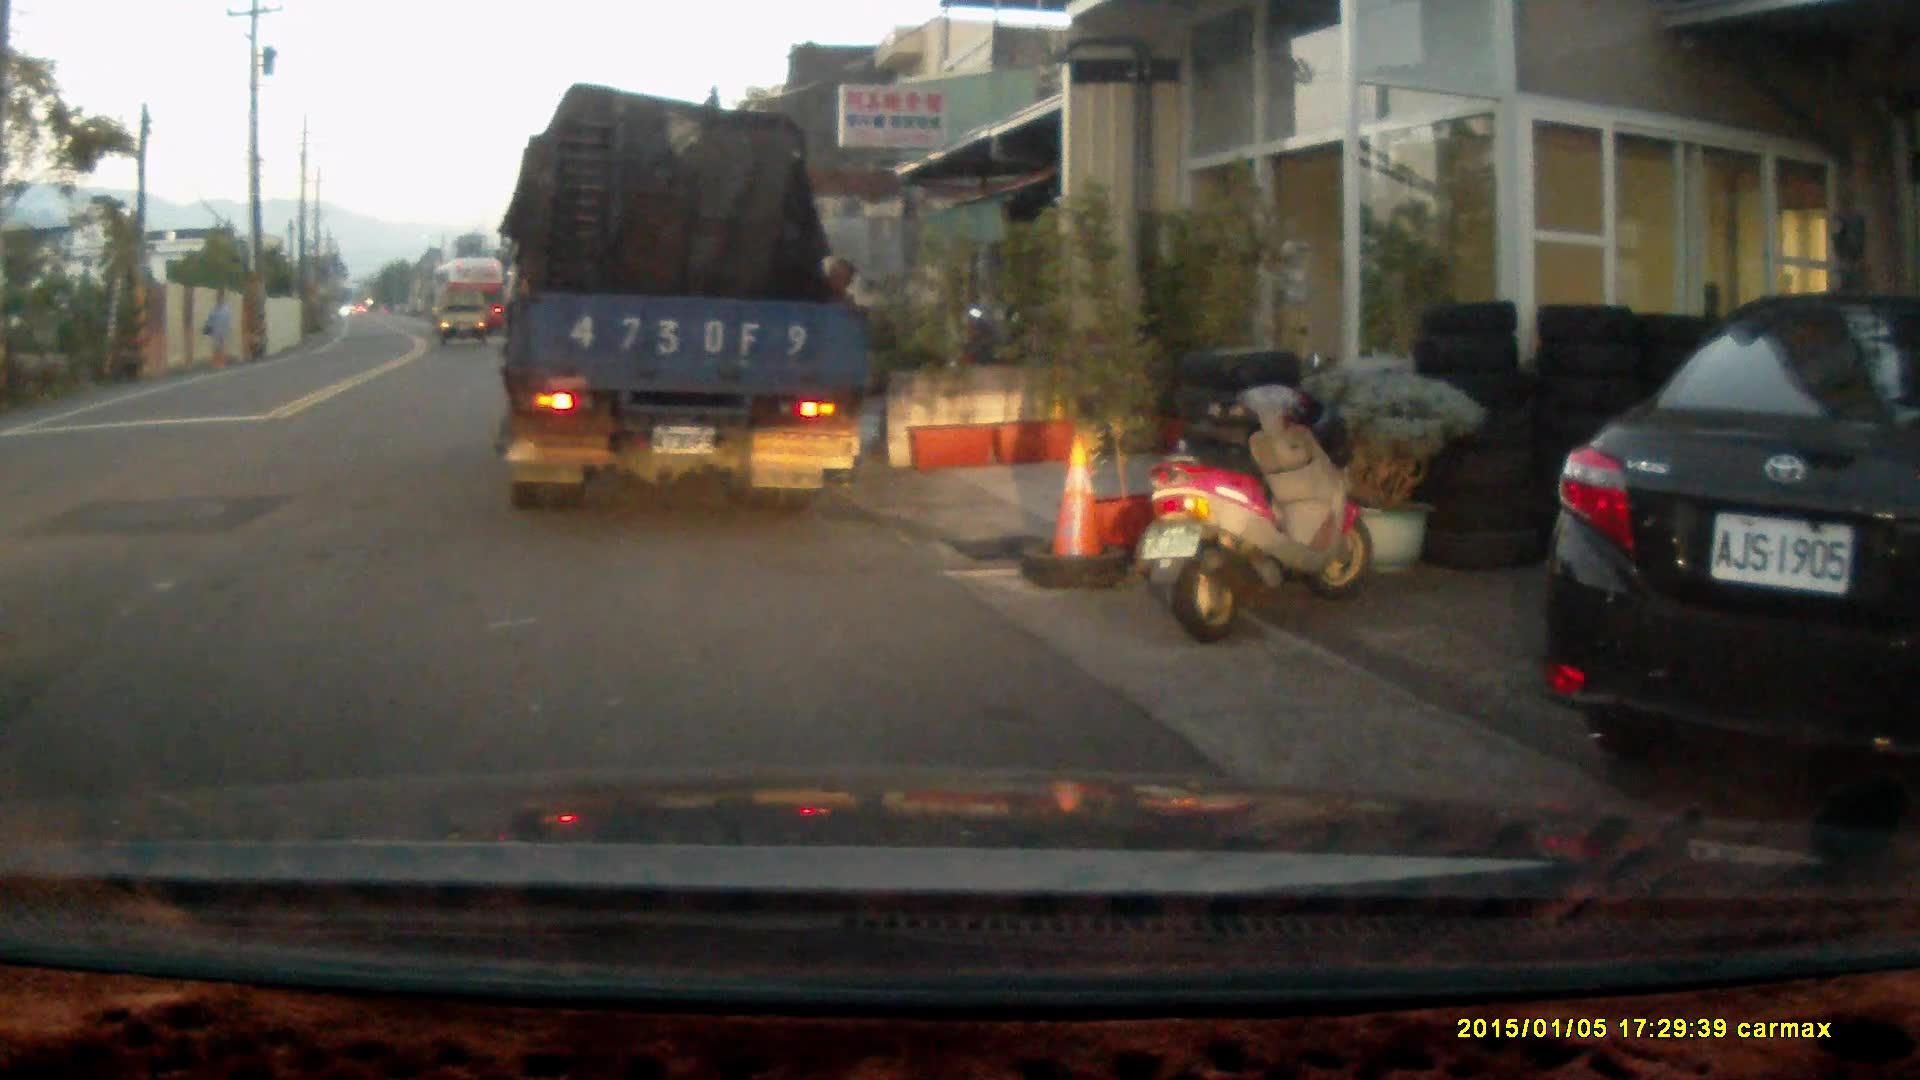pedestrian: (201, 290, 232, 364)
vehicle: (1549, 286, 1919, 778), (486, 91, 867, 505), (432, 253, 512, 337), (438, 289, 489, 347)
